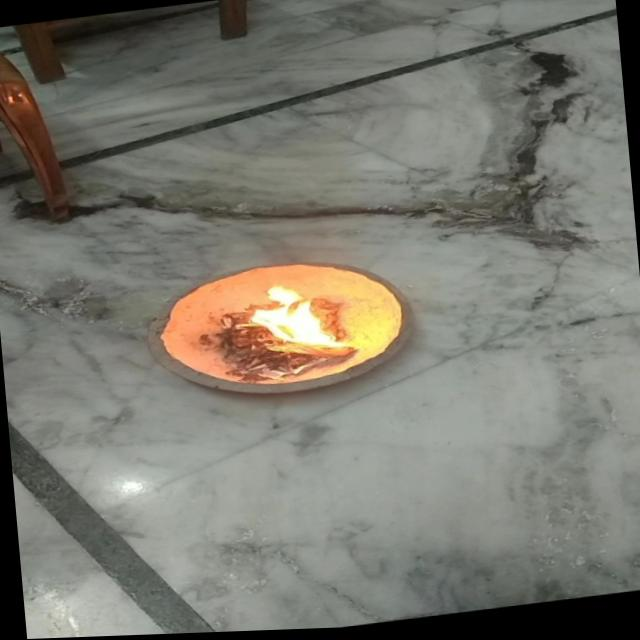fire: (231, 275, 352, 365)
